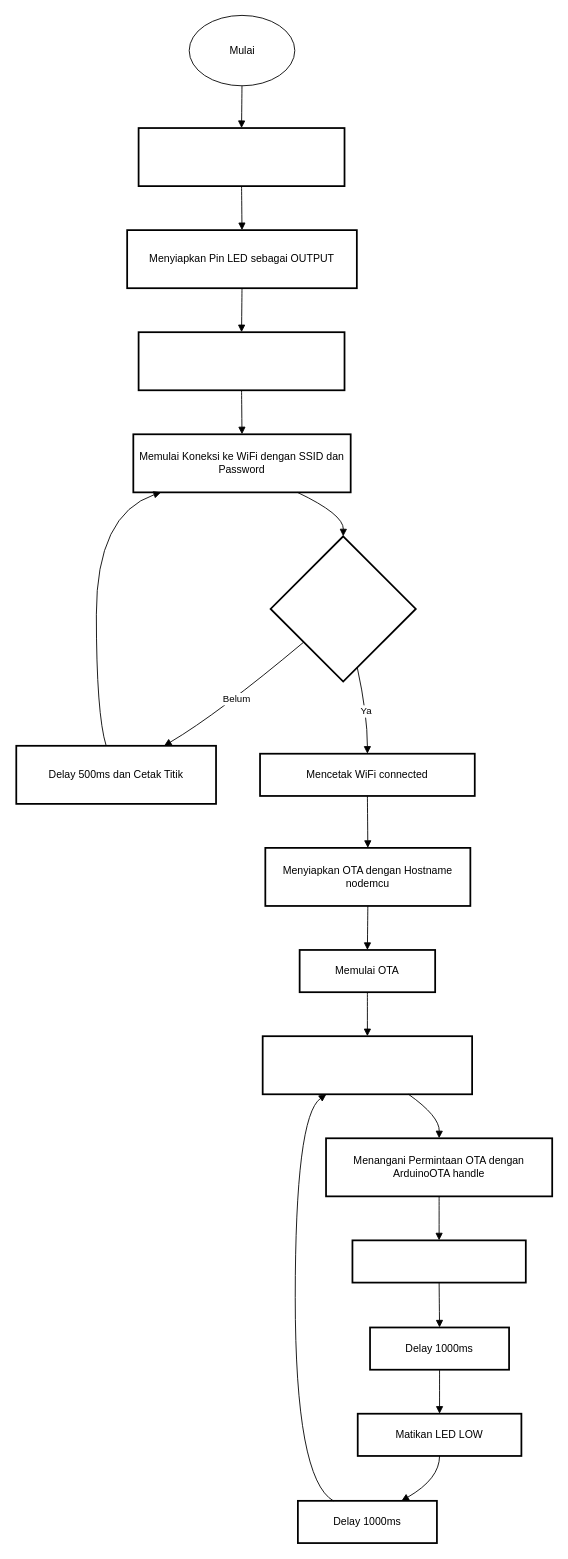
This 568x1559 diagram has some shape labels left out. The shapes that lost their labels are listed below. From the top down, each one's box as (x1, y1, x2, y2) in pixels, then its label:
(137, 127, 345, 187): Inisialisasi Serial dengan Baud Rate 115200
(137, 331, 345, 391): Mencetak Connecting to WiFi
(269, 535, 416, 682): WiFi Terhubung?
(261, 1035, 473, 1095): Loop Menangani OTA dan Blink LED
(351, 1239, 526, 1283): Nyalakan LED HIGH
